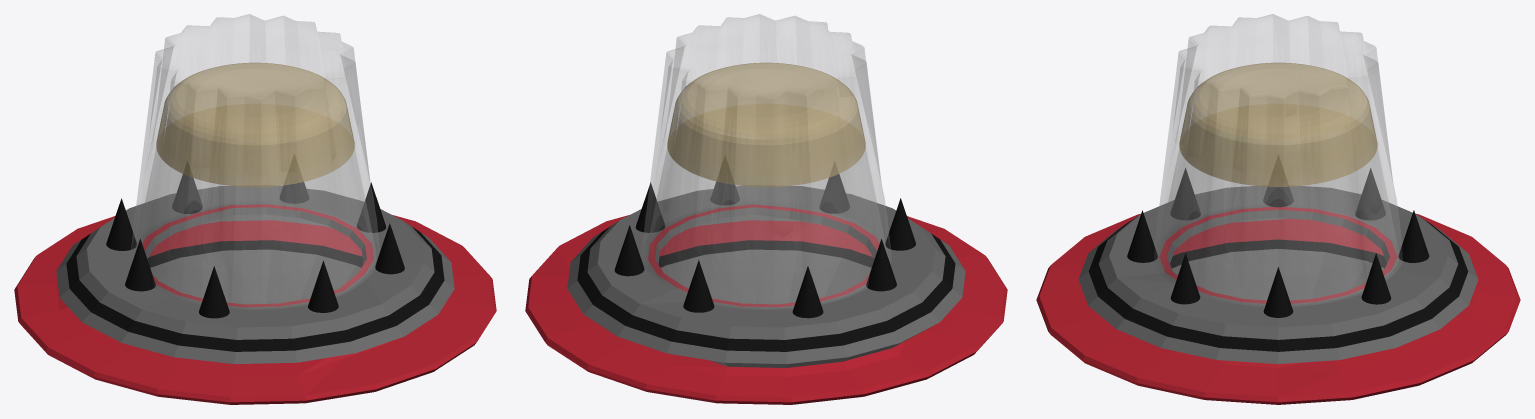
3 renders of one model, left to right at view 1: azimuth 30°, elevation 25°; view 2: azimuth 150°, elevation 25°; view 3: azimuth 270°, elevation 25°, orthographic.
Parts seen in each view (by area): view 1: slot_anchor_saucer, slot_dome; view 2: slot_anchor_saucer, slot_dome; view 3: slot_anchor_saucer, slot_dome.
Boxes of the visible parts, box(x1,y1,x2,y2) form: slot_anchor_saucer: box(14, 174, 496, 404); slot_dome: box(131, 14, 379, 309); slot_anchor_saucer: box(525, 174, 1007, 404); slot_dome: box(642, 14, 891, 309); slot_anchor_saucer: box(1036, 168, 1520, 404); slot_dome: box(1154, 14, 1402, 306).
Bounding box in the file's own units: 2 × 1.46 × 2.
2 materials, 2 textured.
